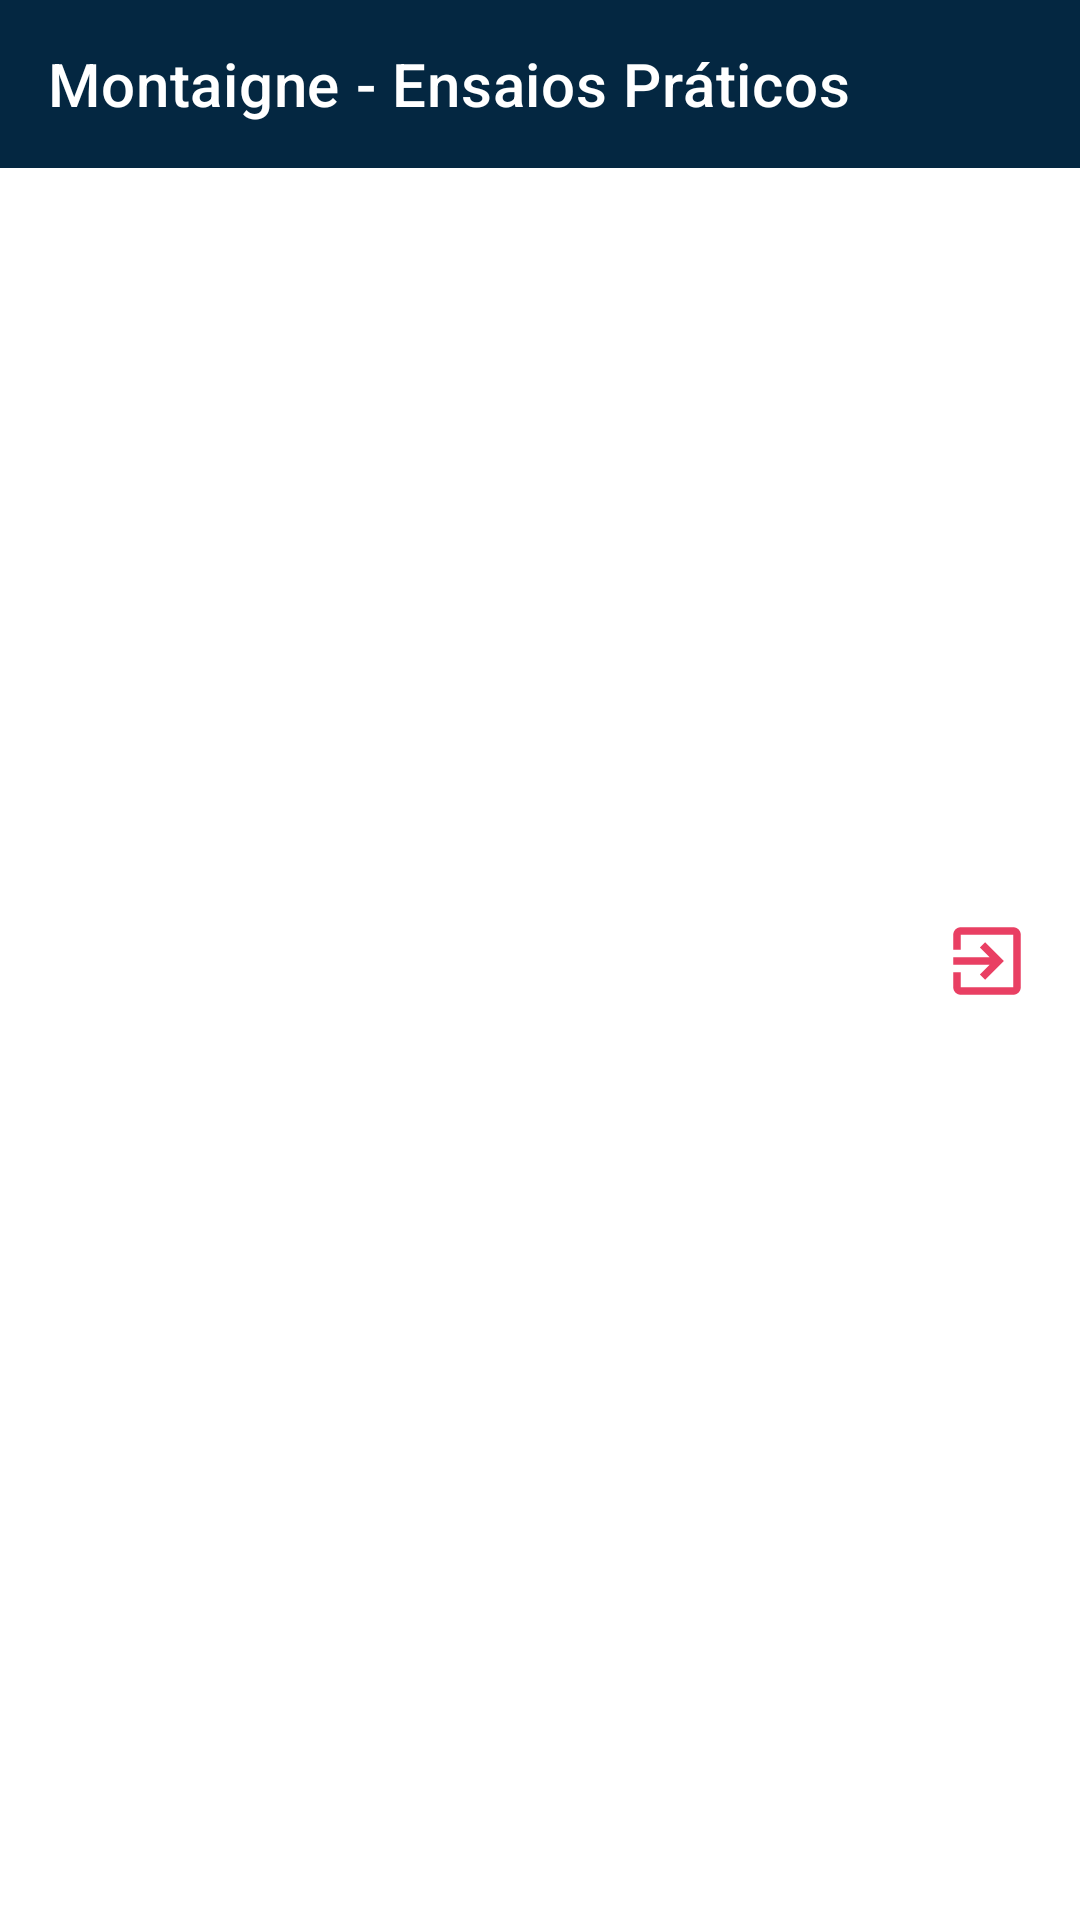

Icons on this 1080×1920 Android screen, each with its box as (x1, y1, x2, y2):
exit app: (953, 927, 1021, 995)
